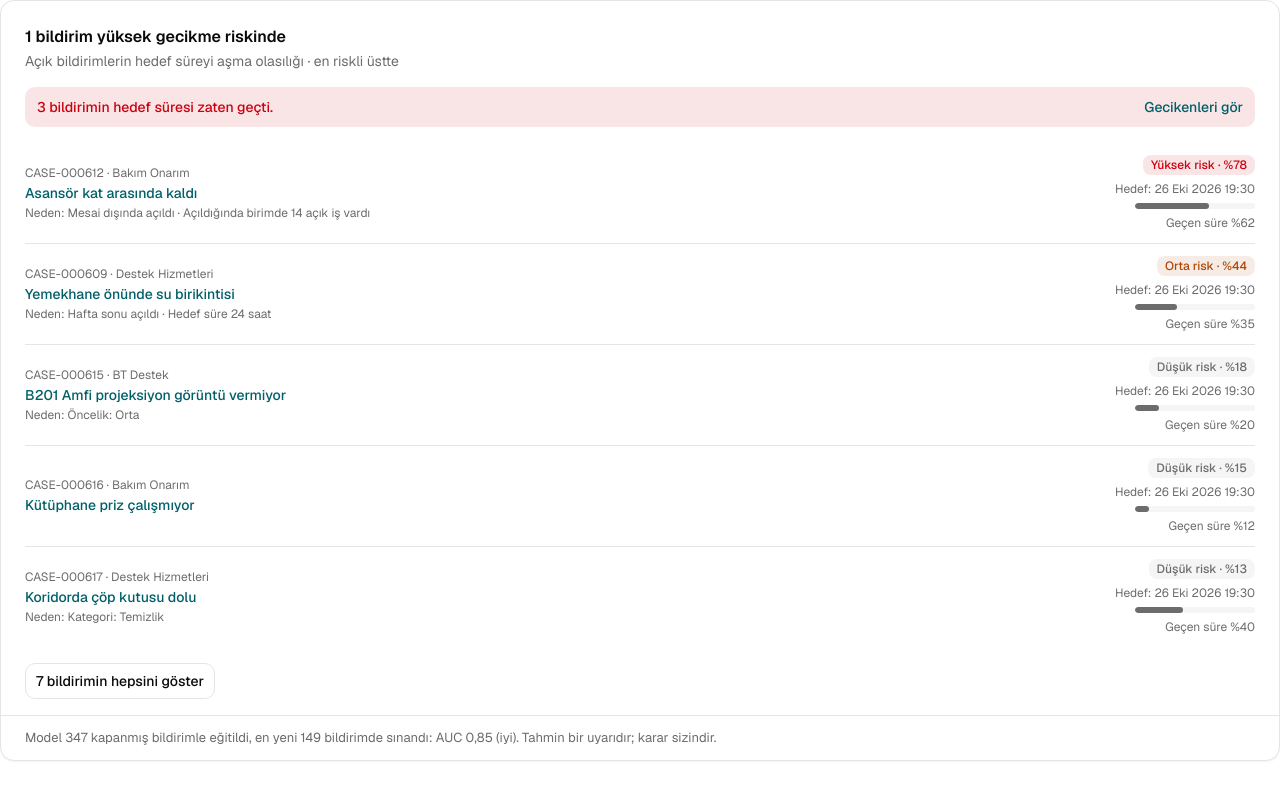
it: DelayRiskCard › shows five cases first and the rest on request
The image size is (1280, 788).
Expected: the number of list items is 5, [25,143,1255,244]; [25,244,1255,345]; [25,345,1255,446]; [25,446,1255,547]; [25,547,1255,647]
Click the button "7 bildirimin hepsini göster". click: (120, 681)
box: [25,663,215,699]
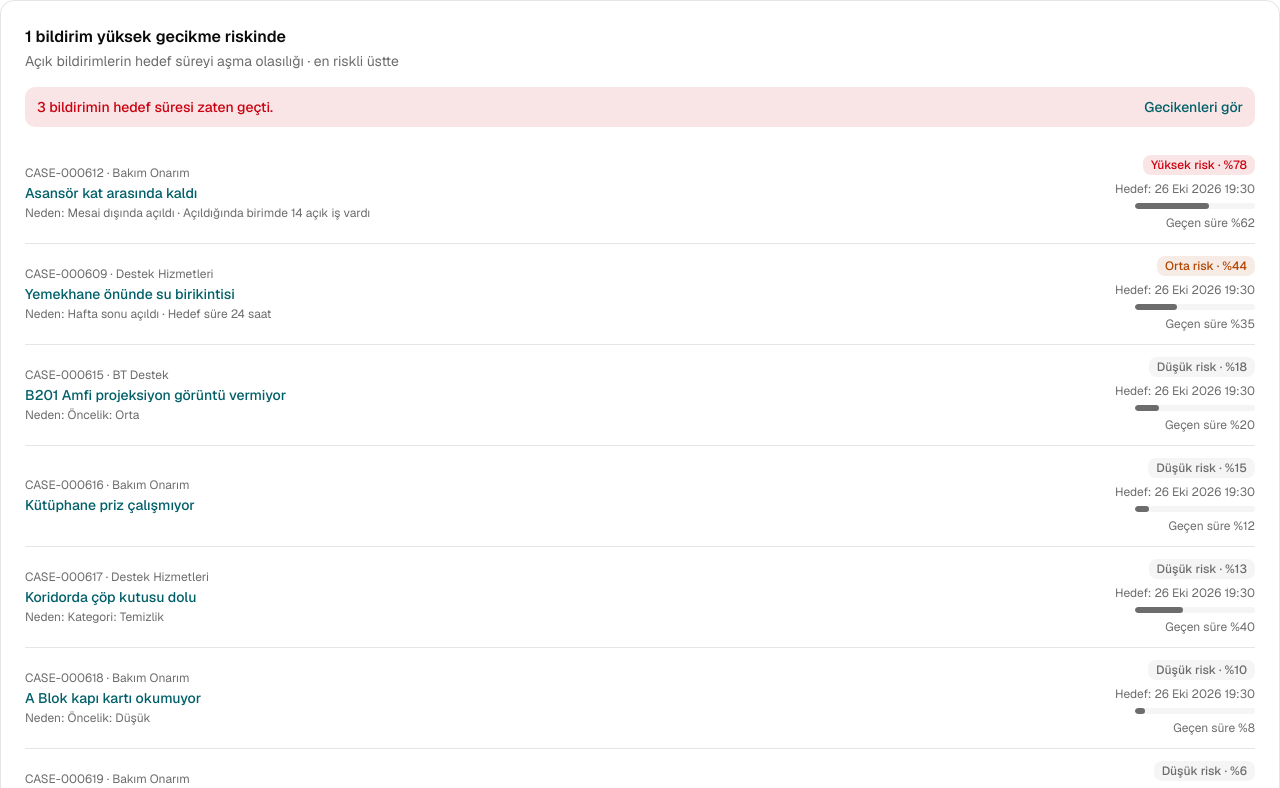
Result: the number of list items is 7
